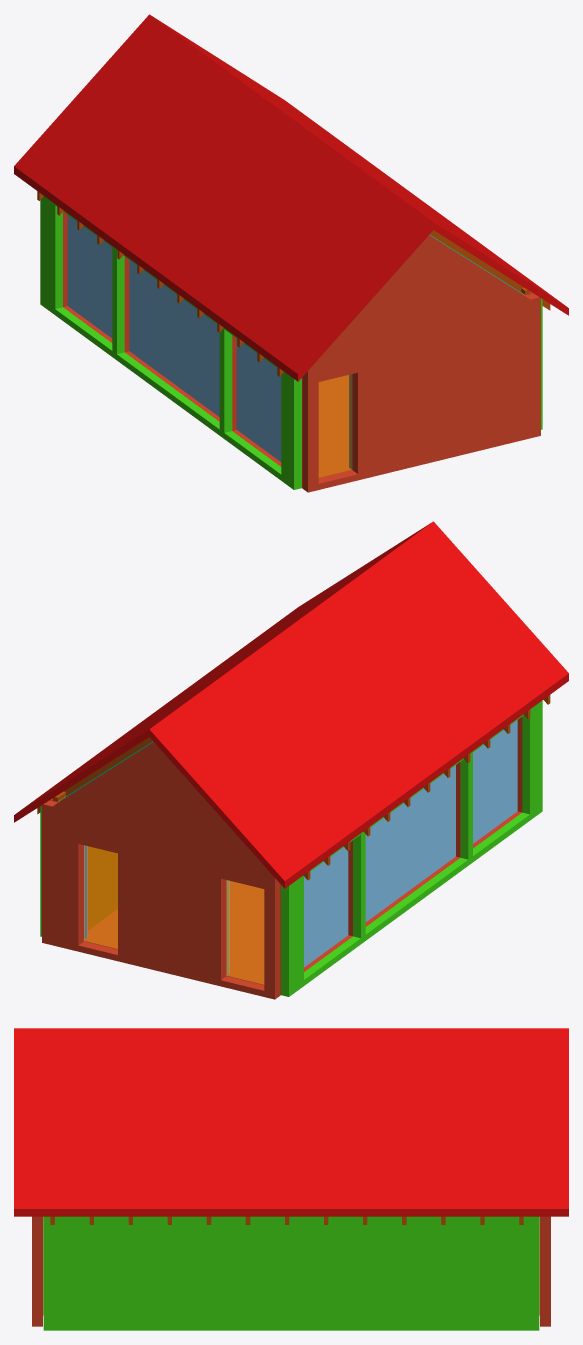
File: obyvak.glb
3 views of the same model, one above another, from view 1: azimuth 30°, elevation 25°; view 2: azimuth 150°, elevation 25°; view 3: azimuth 270°, elevation 25° (orthographic). The views are drawn at different scales.
Visible parts, largest first — view 1: krytina, zdivo (×2), sklo (×3), eps, podlaha, krov; view 2: krytina, zdivo (×2), sklo (×3), eps, podlaha, nabytek, krov; view 3: krytina, eps, zdivo (×2).
Boxes of the visible parts, left/top/right/bottom form: krytina: left=14, top=14, right=568, bottom=381; zdivo (×2): left=63, top=211, right=540, bottom=492; sklo (×3): left=67, top=215, right=281, bottom=461; eps: left=40, top=196, right=301, bottom=489; podlaha: left=318, top=375, right=351, bottom=477; krov: left=277, top=230, right=550, bottom=376; krytina: left=14, top=521, right=568, bottom=888; zdivo (×2): left=42, top=717, right=522, bottom=999; sklo (×3): left=304, top=720, right=517, bottom=967; eps: left=281, top=700, right=542, bottom=996; podlaha: left=84, top=881, right=264, bottom=984; nabytek: left=87, top=846, right=117, bottom=930; krov: left=37, top=737, right=310, bottom=880; krytina: left=14, top=1028, right=568, bottom=1216; eps: left=43, top=1216, right=539, bottom=1330; zdivo (×2): left=32, top=1216, right=550, bottom=1326.
Bounding box in the file's own units: 6.84 × 6 × 12.43.
